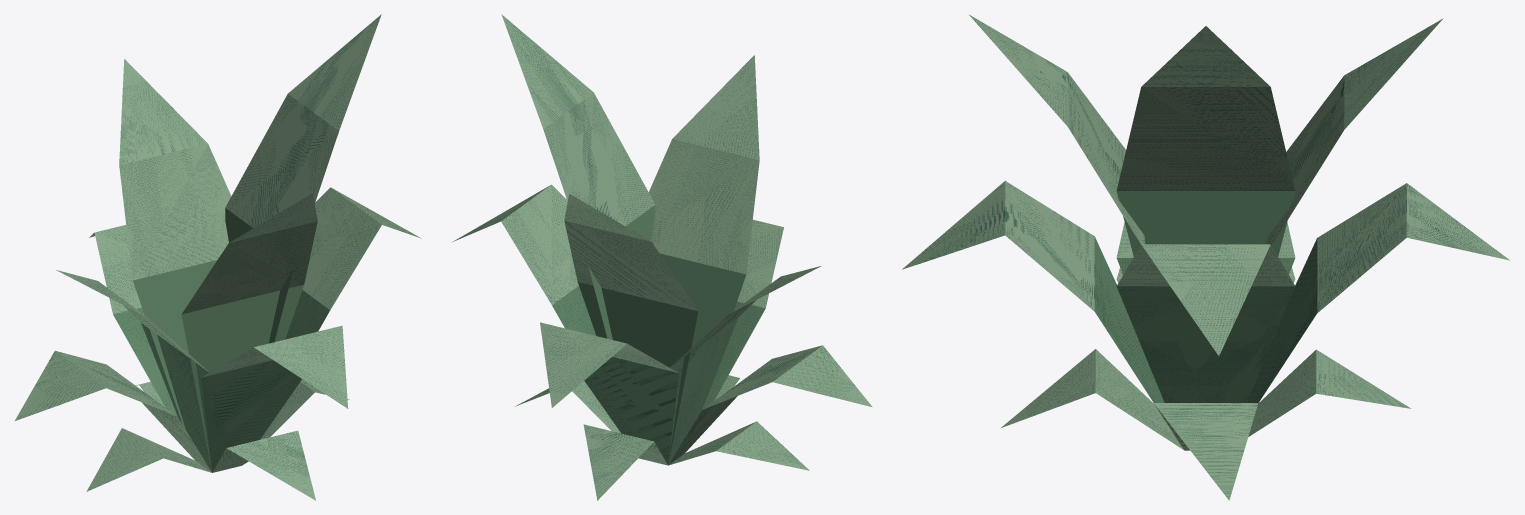
The model's file is courtyard-plant.glb.
The picture shows the model from 3 angles, left to right: view 1: azimuth 30°, elevation 25°; view 2: azimuth 150°, elevation 25°; view 3: azimuth 270°, elevation 25°; orthographic projection. The views are drawn at different scales.
Visible parts, largest first — view 1: Kenney leaf rosette; view 2: Kenney leaf rosette; view 3: Kenney leaf rosette.
Part boxes in pixels (x1=…): Kenney leaf rosette: x1=15, y1=14, x2=421, y2=500; Kenney leaf rosette: x1=453, y1=14, x2=872, y2=500; Kenney leaf rosette: x1=902, y1=14, x2=1509, y2=500.
Size of the model in its own units: 1.07 by 1 by 1.07.
